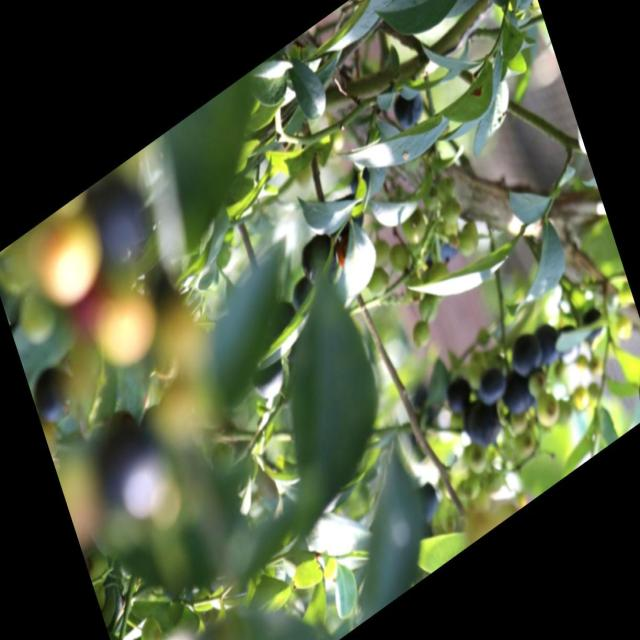blueberry: (293, 226, 340, 295), (387, 77, 432, 144), (245, 349, 287, 406), (463, 395, 504, 453), (507, 327, 545, 381), (532, 315, 568, 371), (472, 359, 508, 406), (502, 371, 535, 422), (577, 301, 609, 348)
blueberry-unripe: (398, 201, 430, 252), (423, 254, 455, 302), (531, 385, 563, 433), (454, 215, 483, 260), (362, 260, 390, 302), (386, 238, 412, 278), (414, 291, 441, 328), (408, 315, 433, 353), (441, 195, 464, 229), (420, 182, 442, 215), (436, 174, 457, 206), (370, 238, 391, 268)
